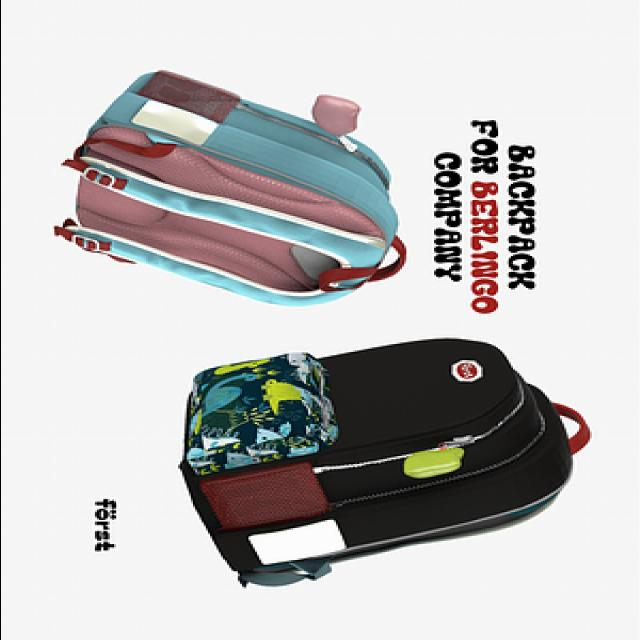backpack: (176, 331, 597, 597), (55, 70, 409, 307)
